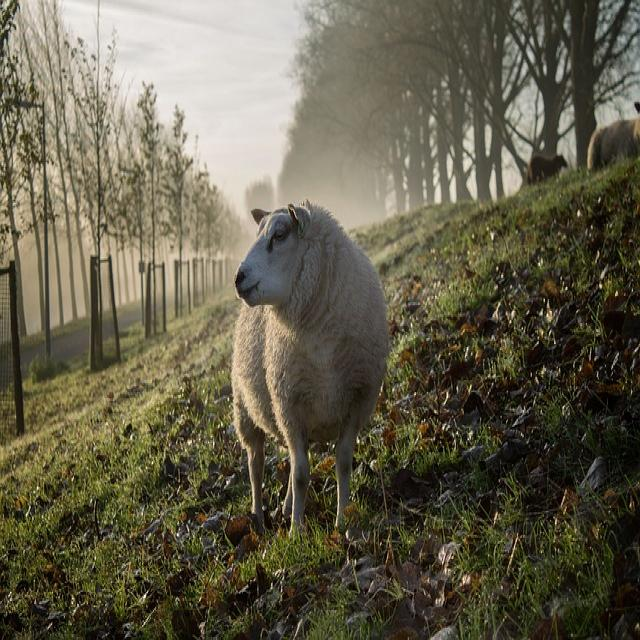goat: (232, 205, 386, 531)
